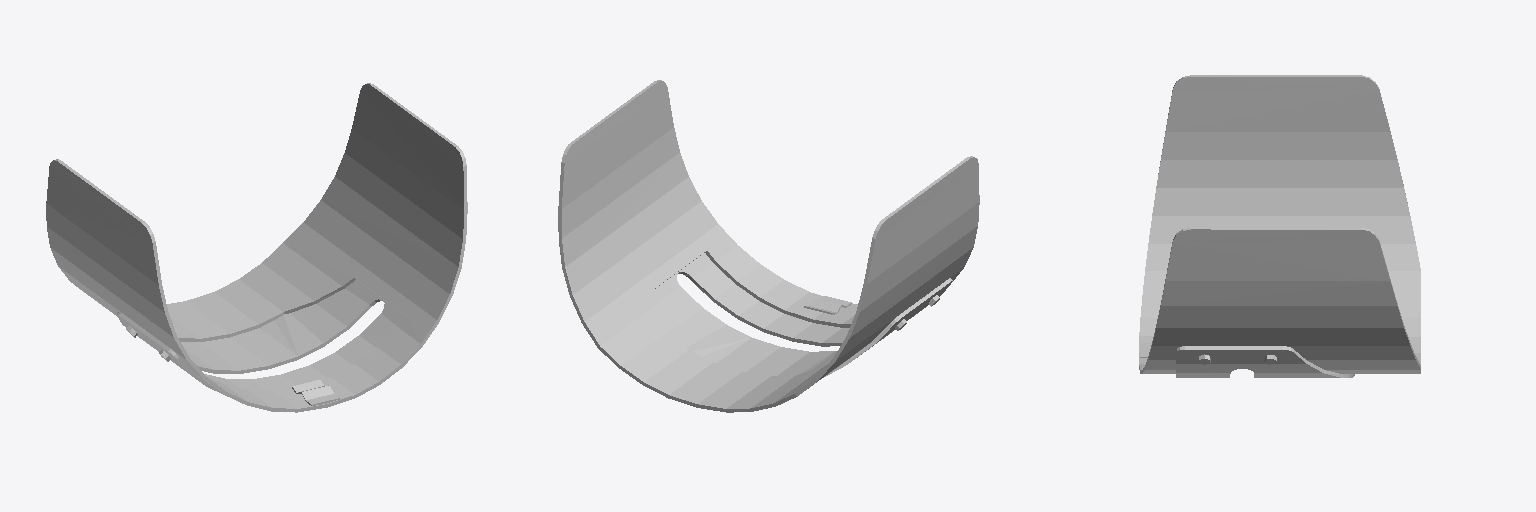
The model's file is KillaVisor.obj.
3 views of the same model, side by side, from view 1: azimuth 30°, elevation 25°; view 2: azimuth 150°, elevation 25°; view 3: azimuth 270°, elevation 25° (orthographic).
Parts seen in each view (by area): view 1: 1.item_equipment_helmet_maska_1sh_shield_LOD0.smd.mesh_0; view 2: 1.item_equipment_helmet_maska_1sh_shield_LOD0.smd.mesh_0; view 3: 1.item_equipment_helmet_maska_1sh_shield_LOD0.smd.mesh_0.
Part boxes in pixels (x1,y1,x2,y2): 1.item_equipment_helmet_maska_1sh_shield_LOD0.smd.mesh_0: (46, 83, 467, 412); 1.item_equipment_helmet_maska_1sh_shield_LOD0.smd.mesh_0: (558, 80, 979, 412); 1.item_equipment_helmet_maska_1sh_shield_LOD0.smd.mesh_0: (1139, 75, 1420, 377).
Size of the model in its own units: 8.69 by 5.46 by 6.72.